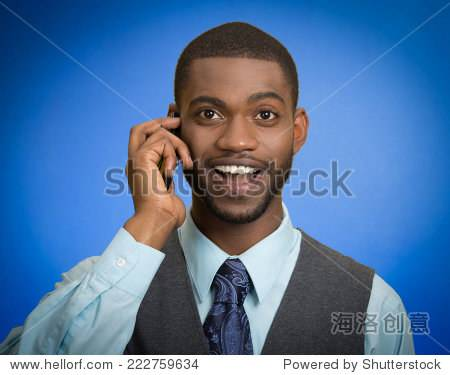phone: (163, 99, 177, 193)
talk: (122, 89, 292, 242)
